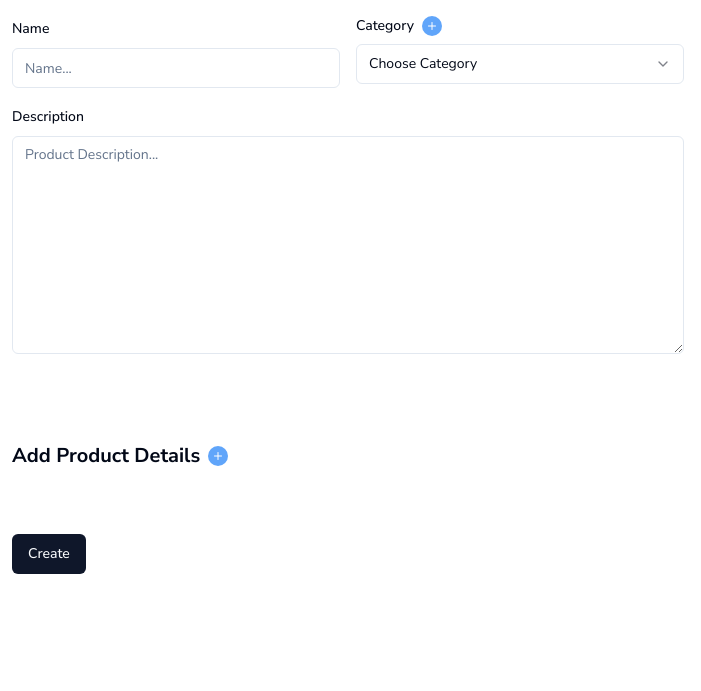
Test: Add and update product form for sellers › Validates required fields before submission
Note: Simulate form submission without filling out the fields
What coordinates should you click on to do the following:
click the button "Create"
I would click on:
 (49, 554)
Its box is top-left (12, 534), bottom-right (86, 574).
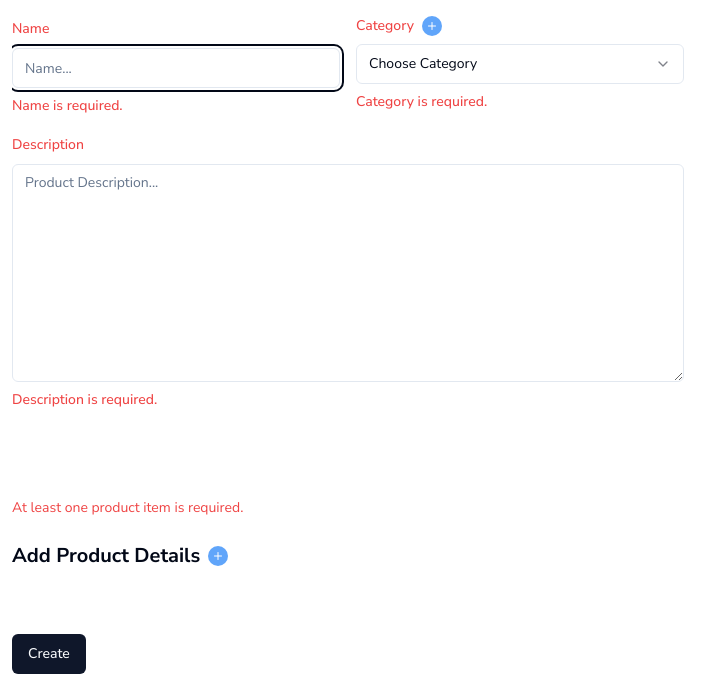
Expected: the text "Name is required." is shown, top-left (12, 96), bottom-right (123, 115)
